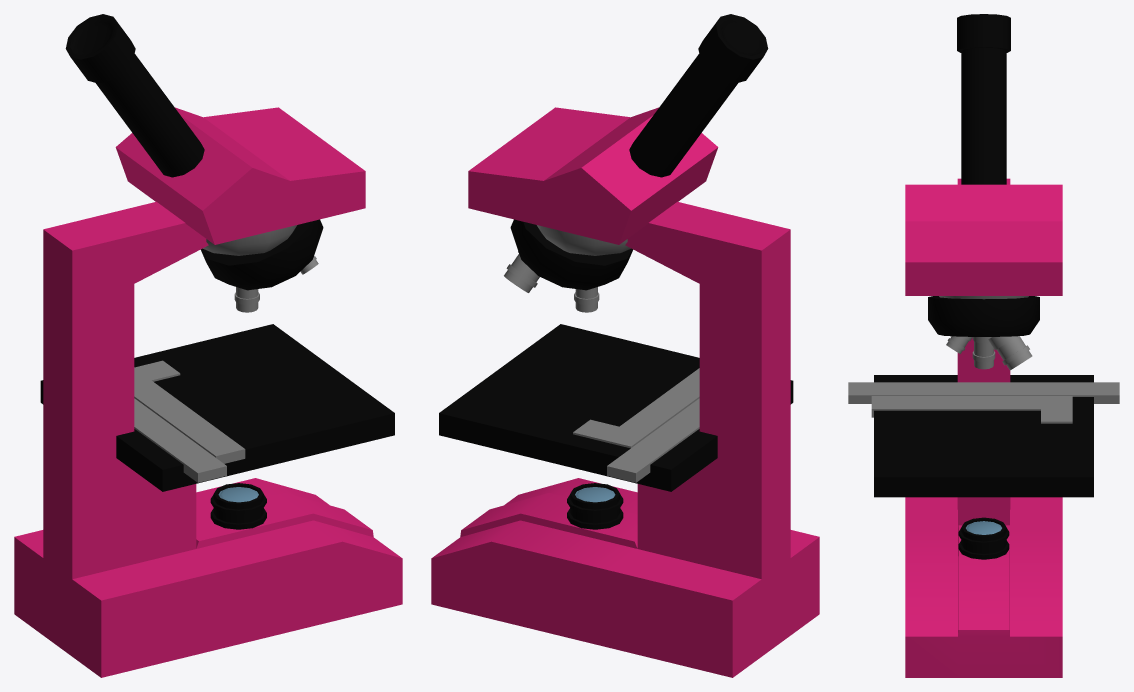
The model's file is microscope.fbx.
3 views of the same model, side by side, from view 1: azimuth 30°, elevation 25°; view 2: azimuth 150°, elevation 25°; view 3: azimuth 270°, elevation 25° (orthographic). The views are drawn at different scales.
Visible parts, largest first — view 1: microscope.001; view 2: microscope.001; view 3: microscope.001.
Part boxes in pixels (left/top/right/bottom): microscope.001: left=14, top=14, right=402, bottom=677; microscope.001: left=431, top=14, right=819, bottom=677; microscope.001: left=848, top=14, right=1119, bottom=677.
Size of the model in its own units: 50.23 by 98.01 by 43.34.
